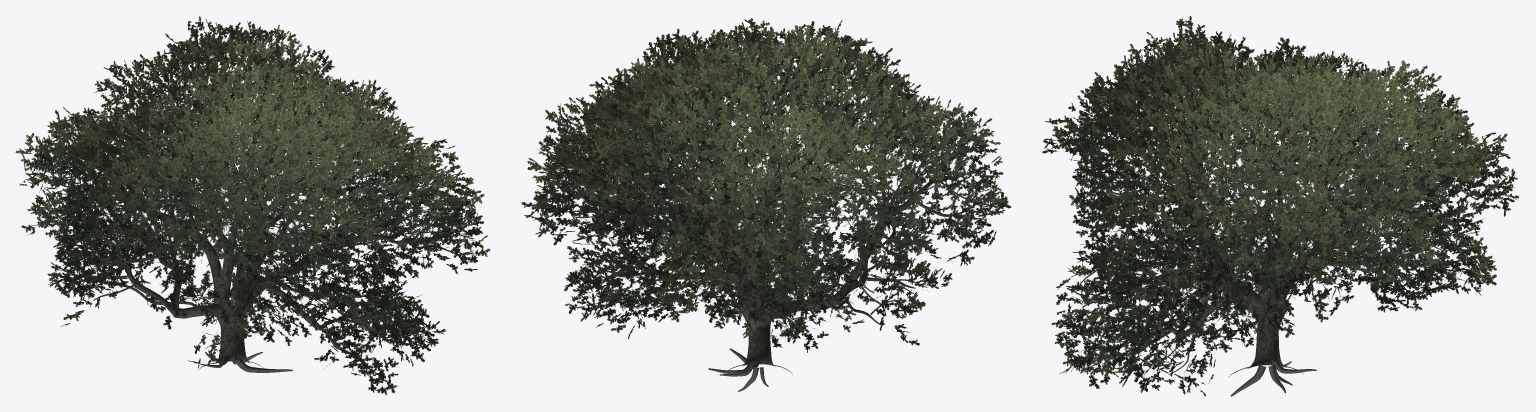
The model's file is lm.old-oak.glb.
3 views of the same model, side by side, from view 1: azimuth 30°, elevation 25°; view 2: azimuth 150°, elevation 25°; view 3: azimuth 270°, elevation 25° (orthographic). The views are drawn at different scales.
Visible parts, largest first — view 1: lm.old-oak:lod0; view 2: lm.old-oak:lod0; view 3: lm.old-oak:lod0.
Boxes of the visible parts, box(x1,y1,x2,y2) form: lm.old-oak:lod0: box(15, 16, 490, 394); lm.old-oak:lod0: box(521, 18, 1011, 391); lm.old-oak:lod0: box(1042, 16, 1518, 396).
Size of what is drawn, in the model's own units: 27.82 by 20.69 by 27.08.
3 materials, 3 textured.
